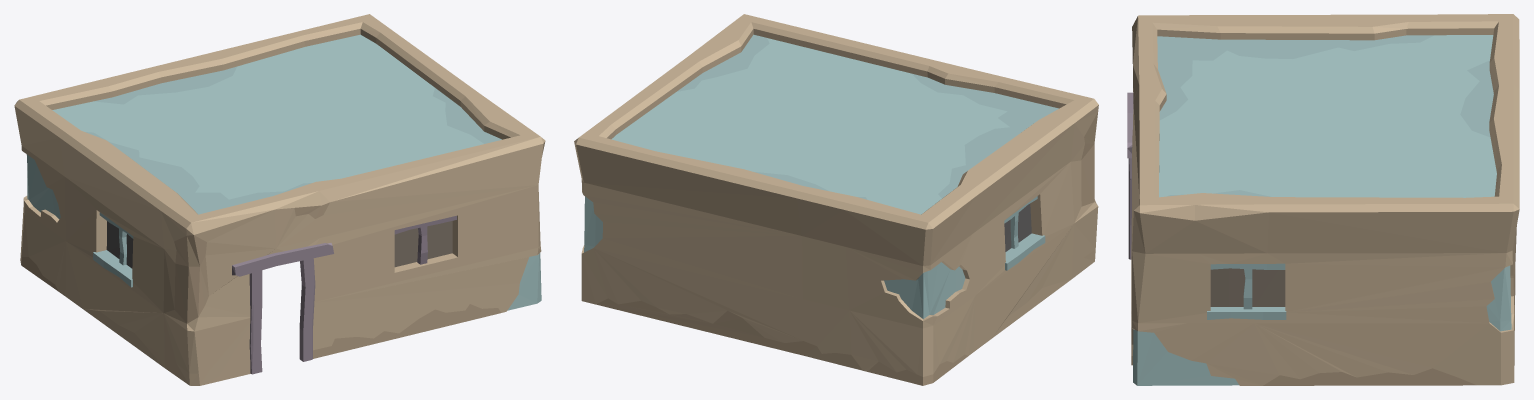
Rendered from SM_Bld_Village_06.fbx.
The picture shows the model from 3 angles, left to right: view 1: azimuth 30°, elevation 25°; view 2: azimuth 150°, elevation 25°; view 3: azimuth 270°, elevation 25°; orthographic projection. The views are drawn at different scales.
Parts seen in each view (by area): view 1: SM_Bld_Village_06; view 2: SM_Bld_Village_06; view 3: SM_Bld_Village_06.
Part boxes in pixels (x1,y1,x2,y2): SM_Bld_Village_06: (14,14,545,385); SM_Bld_Village_06: (574,14,1098,385); SM_Bld_Village_06: (1127,14,1519,385).
Bounding box in the file's own units: 0.0765 × 0.0329 × 0.0646.
1 material, 1 textured.
